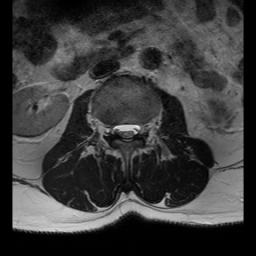CCS_normal: (123, 115, 131, 150)
LFS_normal: (140, 116, 148, 142)
LLS_normal: (131, 115, 140, 142)
RFS_normal: (104, 116, 113, 141)
RLS_normal: (113, 117, 123, 142)
